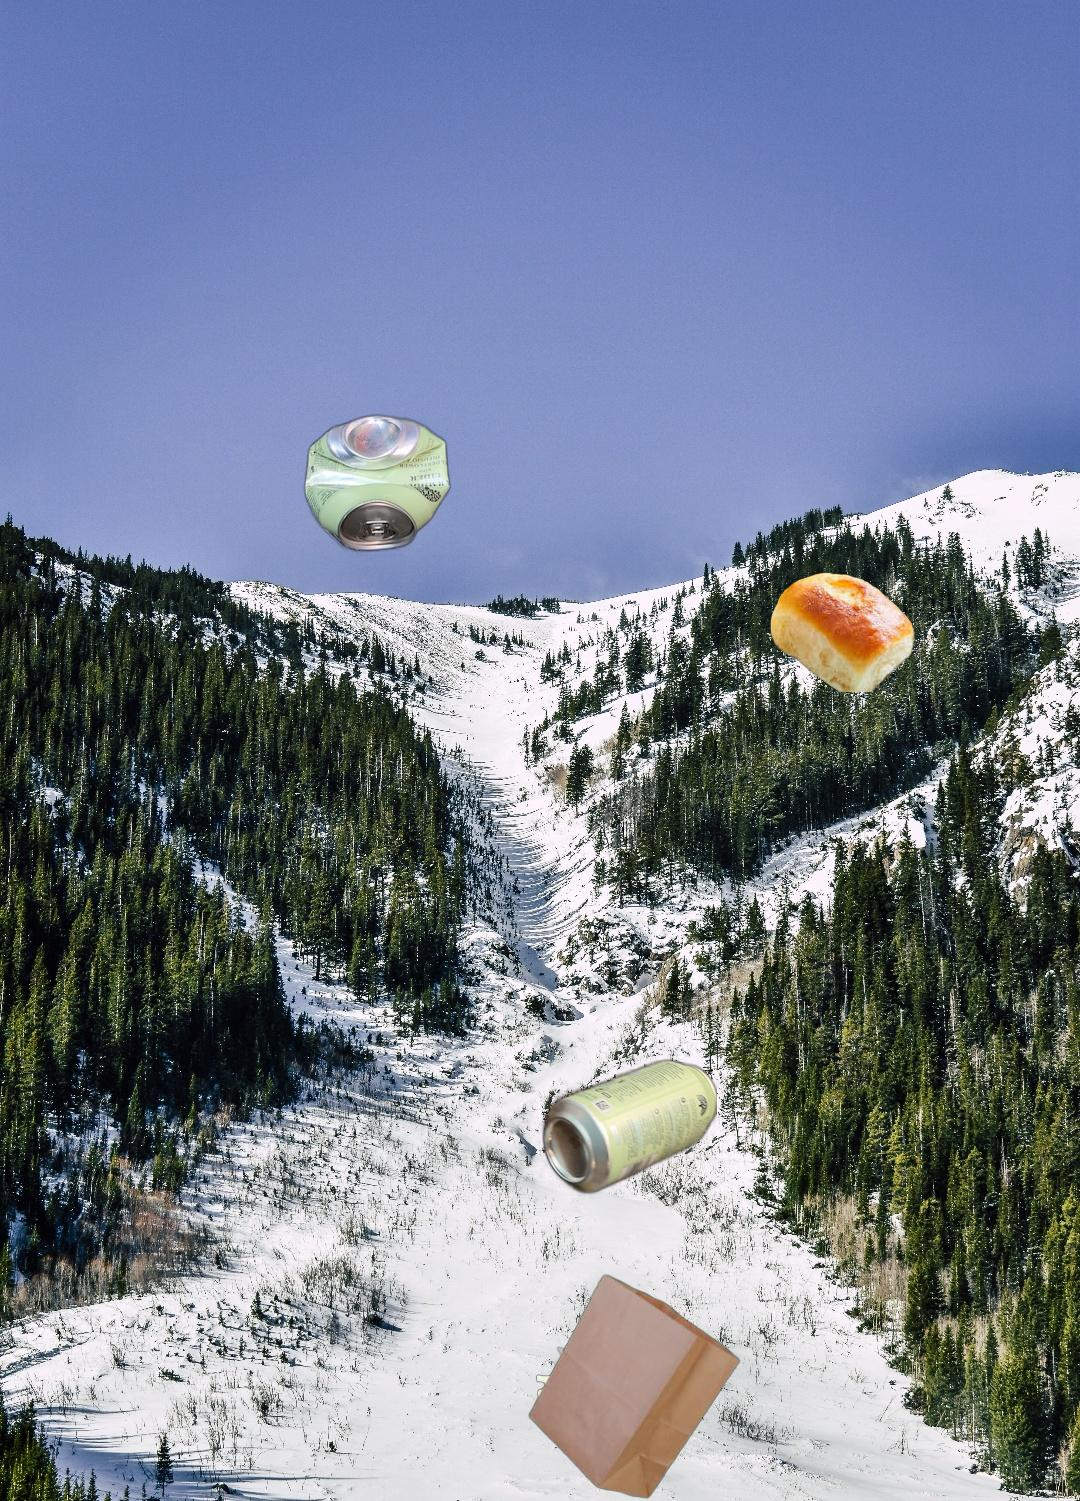biological: (768, 570, 919, 692)
metal-cans: (205, 1026, 717, 1501), (301, 410, 454, 564)
paper-bag: (525, 1271, 741, 1500)
